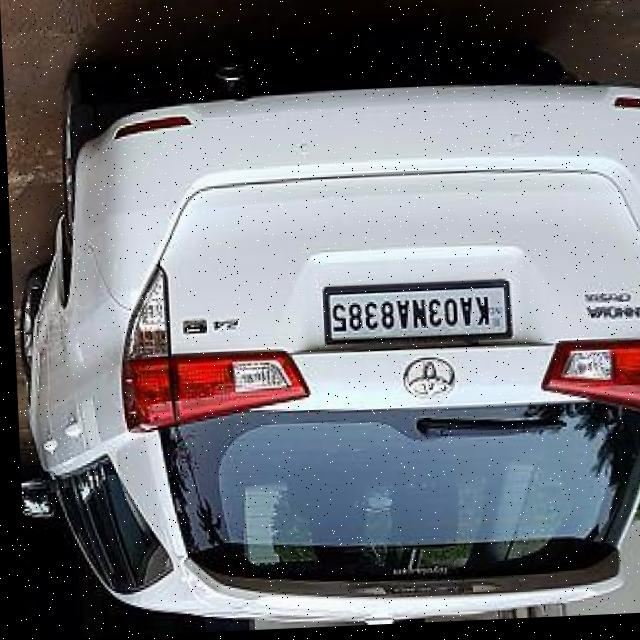plate: (319, 286, 510, 352)
